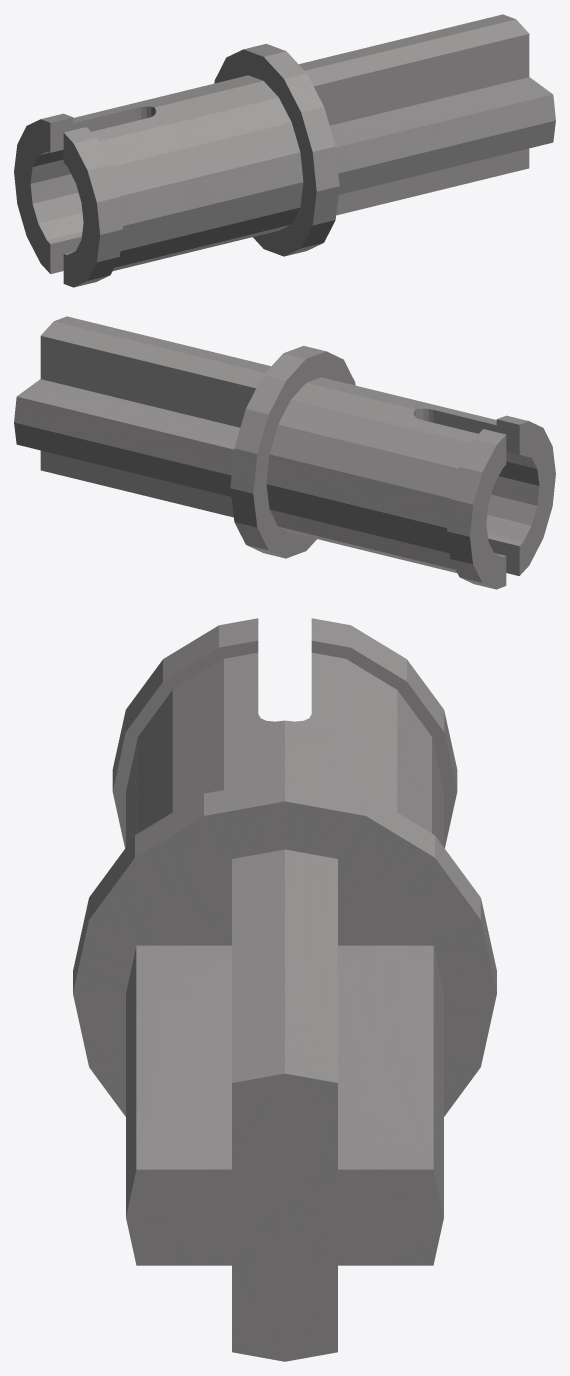
3 renders of one model, top to bottom at view 1: azimuth 30°, elevation 25°; view 2: azimuth 150°, elevation 25°; view 3: azimuth 270°, elevation 25°, orthographic. The views are drawn at different scales.
Parts seen in each view (by area): view 1: node; view 2: node; view 3: node.
Boxes of the visible parts, left/top/right/bottom form: node: left=14, top=14, right=555, bottom=287; node: left=14, top=316, right=555, bottom=589; node: left=73, top=618, right=496, bottom=1361.
Bounding box in the file's own units: 40 × 16 × 16.
Materials: 1 (1 with a texture image).
